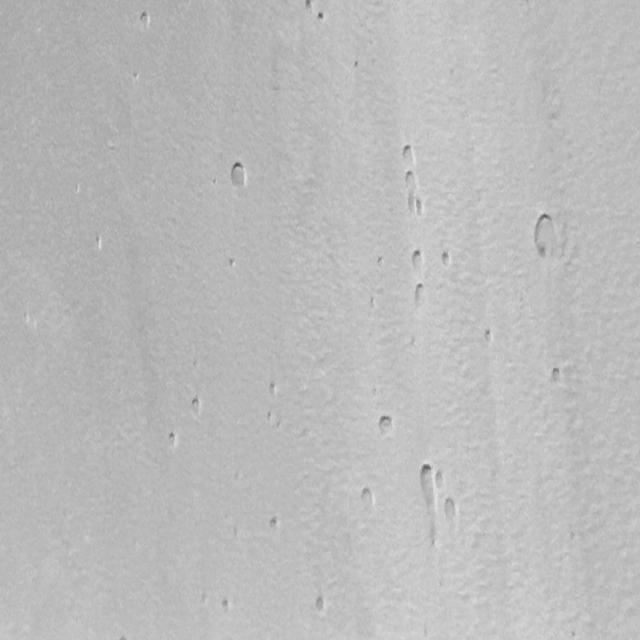pin holes: (529, 208, 560, 264), (421, 464, 438, 550), (227, 160, 250, 190), (376, 414, 398, 442), (442, 496, 461, 526), (356, 484, 377, 511), (411, 281, 431, 309), (548, 363, 569, 389), (410, 195, 430, 222), (401, 170, 420, 197), (408, 245, 426, 272), (187, 394, 205, 418), (365, 291, 383, 315), (166, 428, 183, 452), (311, 592, 329, 614), (400, 144, 418, 166), (480, 324, 498, 346), (439, 247, 456, 270), (266, 514, 284, 534), (136, 11, 152, 31), (219, 596, 235, 616), (435, 468, 449, 489), (267, 380, 281, 399), (91, 233, 105, 252), (265, 408, 278, 426), (226, 256, 240, 272), (375, 255, 388, 272), (314, 12, 327, 26), (302, 0, 316, 12), (350, 56, 362, 70)
